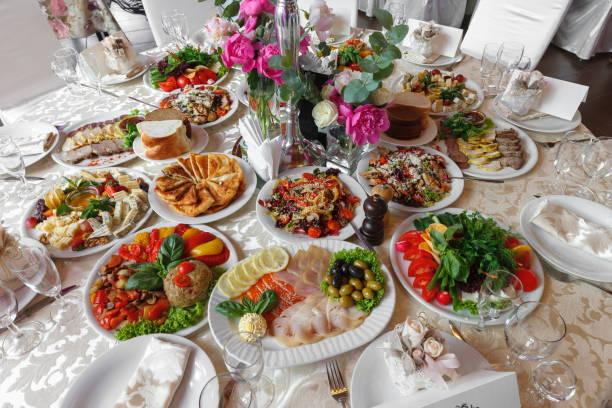Braised Crucian Carp: (210, 238, 390, 365), (388, 208, 542, 322), (83, 226, 234, 340), (25, 171, 154, 258), (255, 166, 366, 241), (144, 153, 254, 224), (360, 147, 464, 213), (439, 117, 536, 180), (50, 114, 151, 170)
